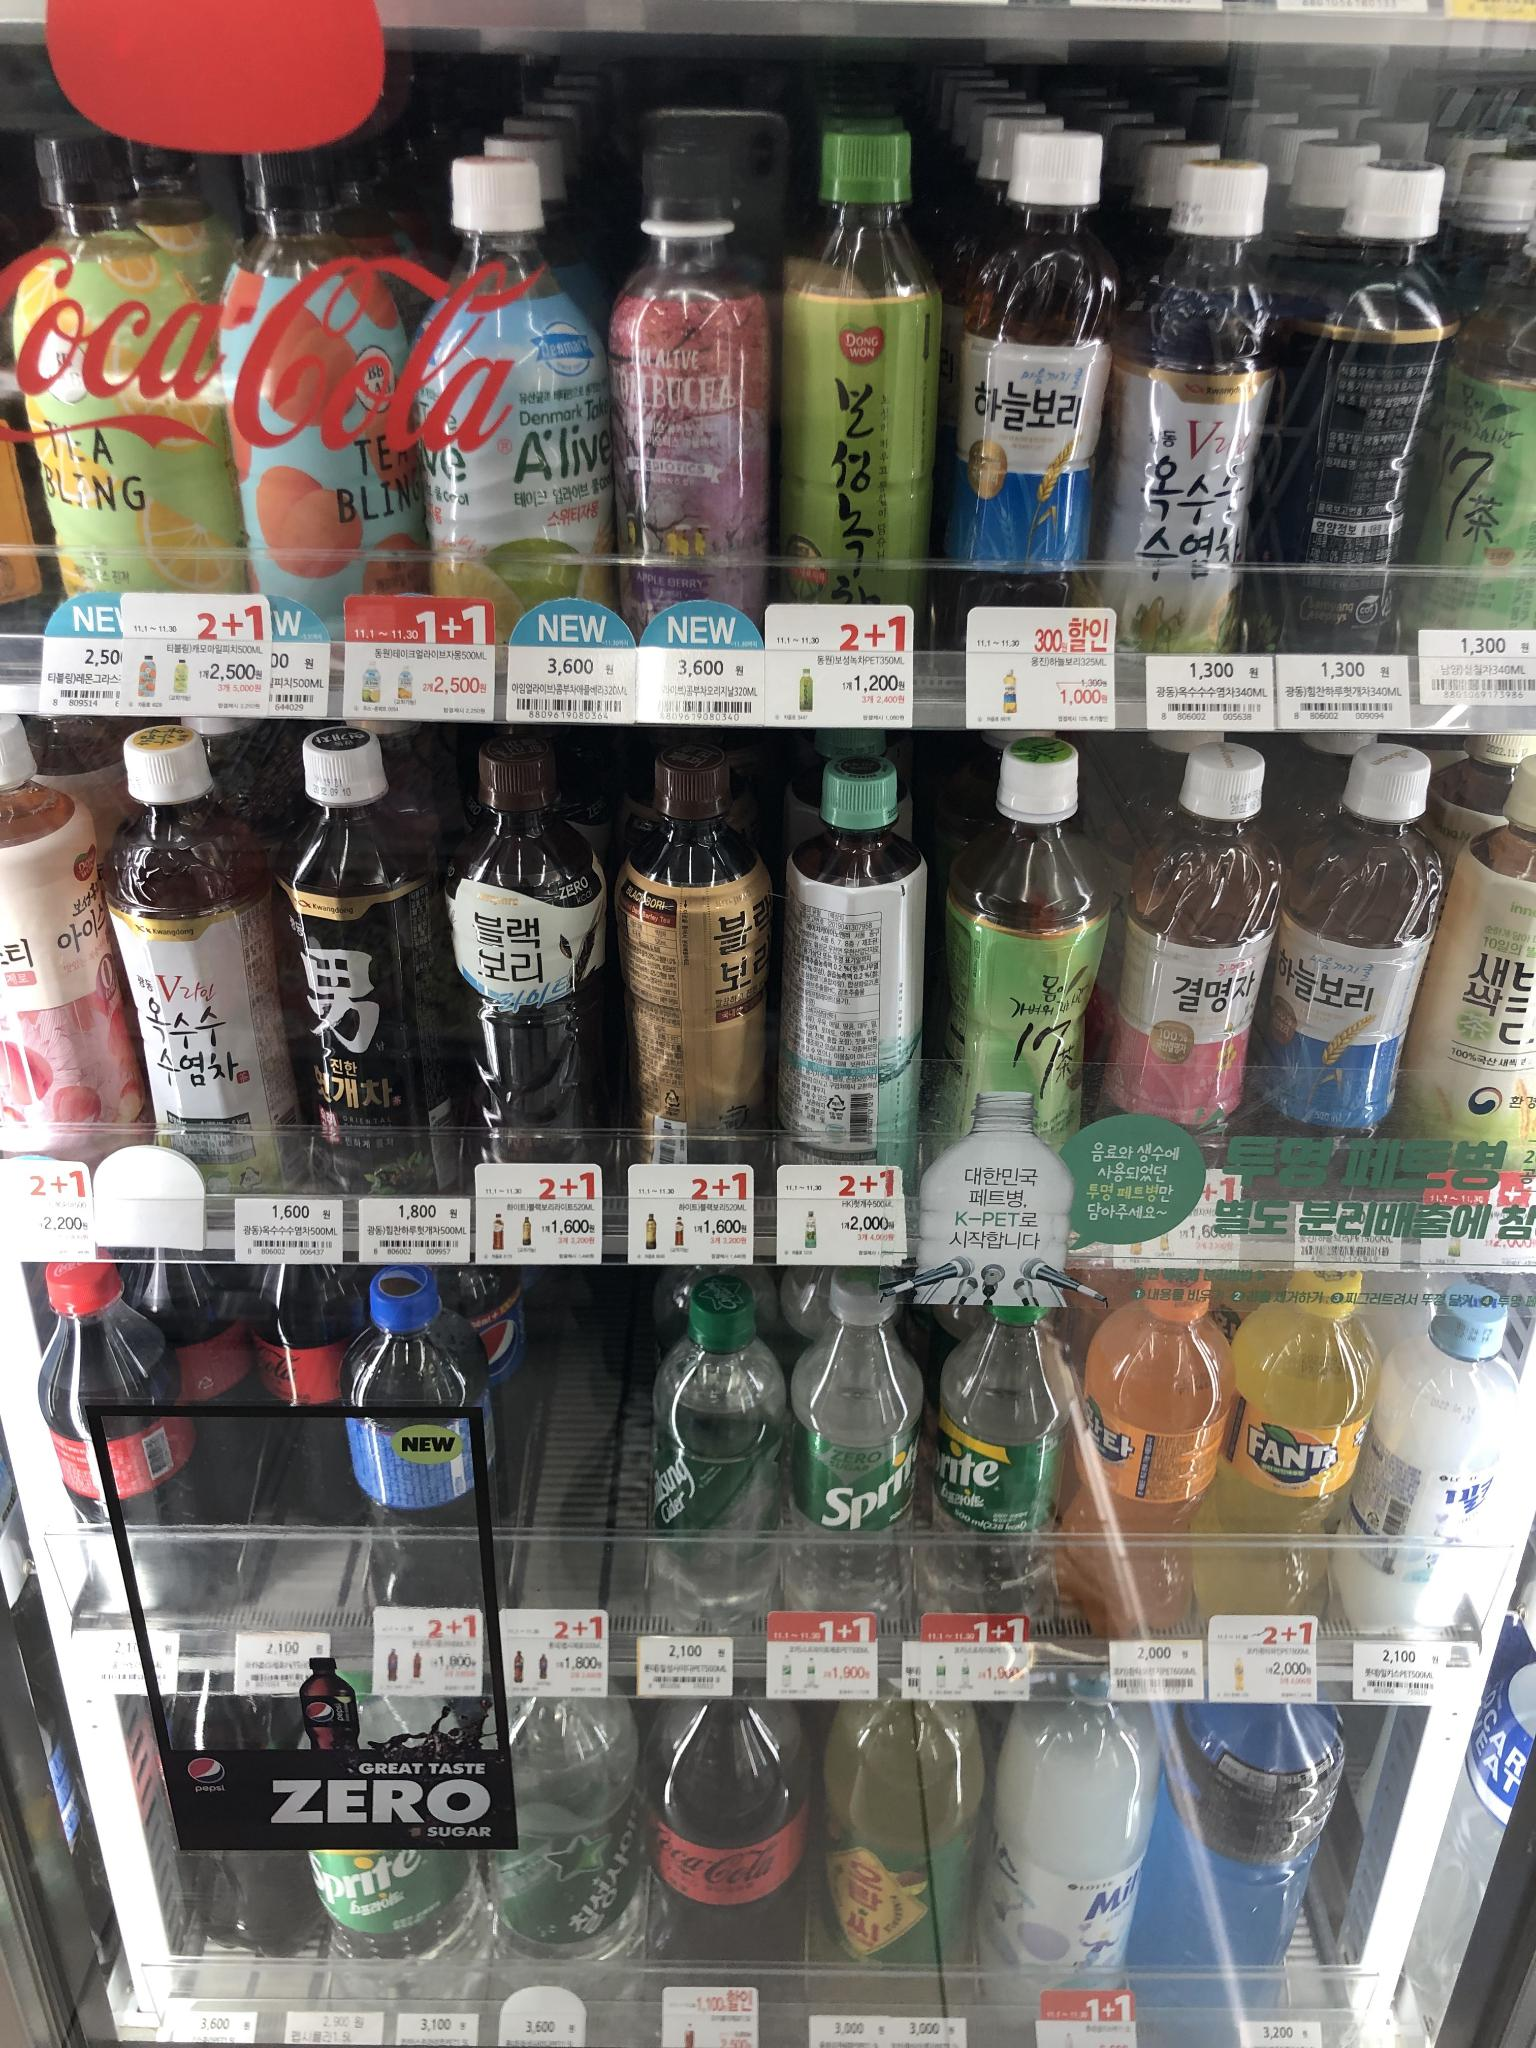haneulbori: (1241, 753, 1447, 1182)
heotgaecha: (261, 705, 460, 1203)
oksususuyeomcha: (106, 700, 294, 1214)
sprite_zero: (791, 1263, 937, 1630)
